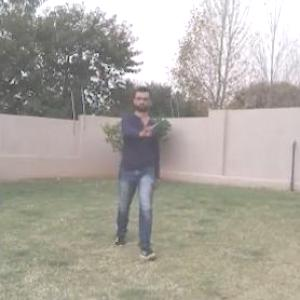takeoff-hand: (135, 116, 157, 142)
